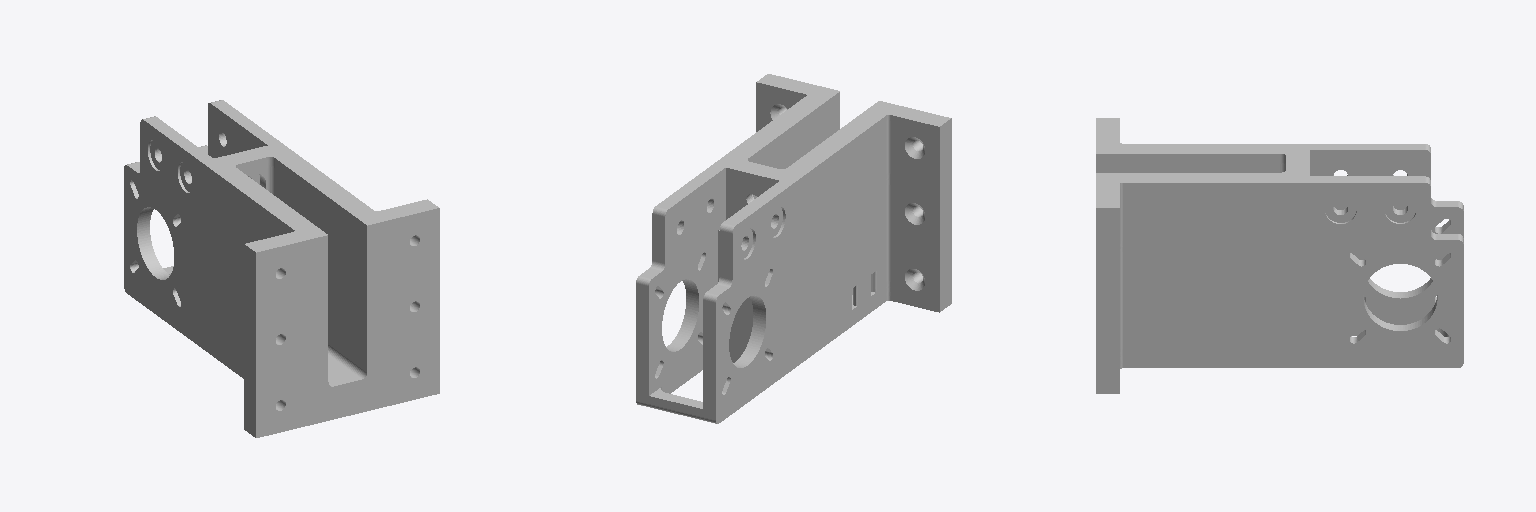
The model's file is linear_axis_motor_mount_1x.obj.
3 renders of one model, left to right at view 1: azimuth 30°, elevation 25°; view 2: azimuth 150°, elevation 25°; view 3: azimuth 270°, elevation 25°, orthographic.
Visible parts, largest first — view 1: linear_axis_motor_mount_1x; view 2: linear_axis_motor_mount_1x; view 3: linear_axis_motor_mount_1x.
Part boxes in pixels (left/top/right/bottom): linear_axis_motor_mount_1x: left=124, top=100, right=439, bottom=437; linear_axis_motor_mount_1x: left=636, top=74, right=951, bottom=423; linear_axis_motor_mount_1x: left=1096, top=118, right=1463, bottom=393.
Size of the model in its own units: 71 by 68.75 by 123.